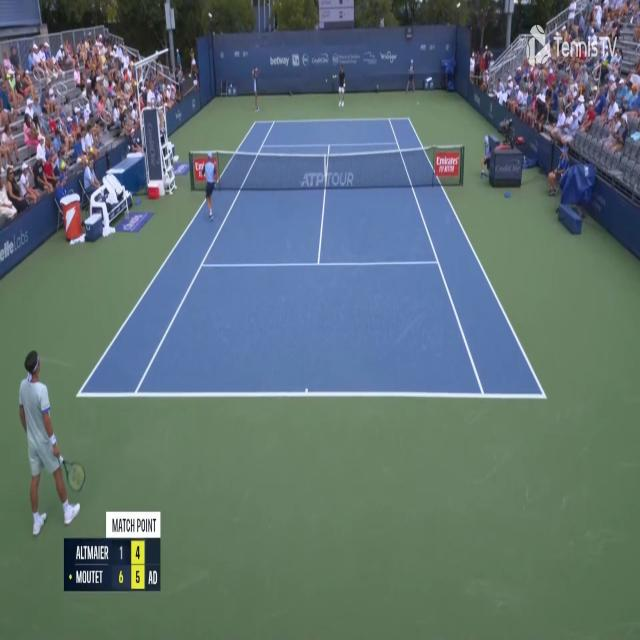tennis-player: (15, 345, 87, 543), (331, 61, 347, 108)
